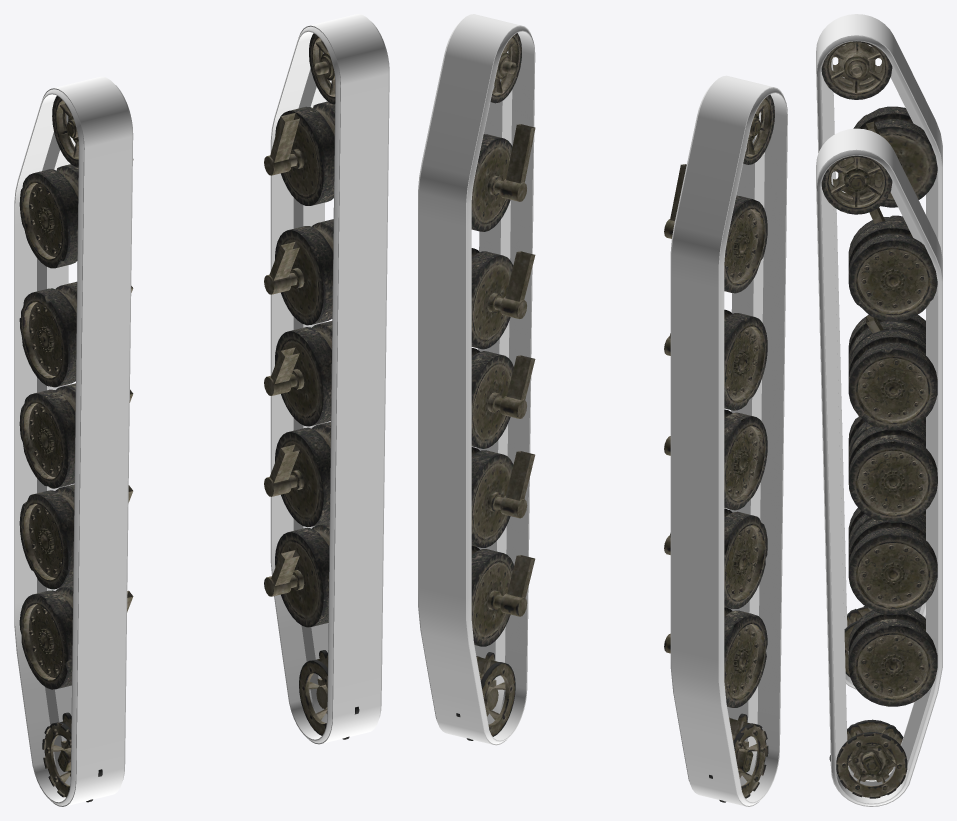
The model's file is Chassis.glb.
3 renders of one model, left to right at view 1: azimuth 30°, elevation 25°; view 2: azimuth 150°, elevation 25°; view 3: azimuth 270°, elevation 25°, orthographic. The views are drawn at different scales.
Visible parts, largest first — view 1: set_0_group_0, set_1_group_0, set_3_group_0, set_2_group_0; view 2: set_0_group_0, set_1_group_0, set_3_group_0, set_2_group_0; view 3: set_3_group_0, set_1_group_0, set_2_group_0, set_0_group_0.
Part boxes in pixels (x1,y1,x2,y2): set_0_group_0: [14, 76, 133, 806]; set_1_group_0: [270, 14, 389, 744]; set_3_group_0: [264, 33, 359, 739]; set_2_group_0: [19, 96, 133, 802]; set_0_group_0: [670, 75, 787, 806]; set_1_group_0: [418, 14, 535, 745]; set_3_group_0: [456, 33, 535, 740]; set_2_group_0: [664, 94, 774, 802]; set_3_group_0: [821, 155, 937, 798]; set_1_group_0: [816, 128, 942, 806]; set_2_group_0: [821, 41, 937, 676]; set_0_group_0: [816, 14, 942, 689].
Bounding box in the file's own units: 2.9 × 6.42 × 1.12.
4 materials, 2 textured.
